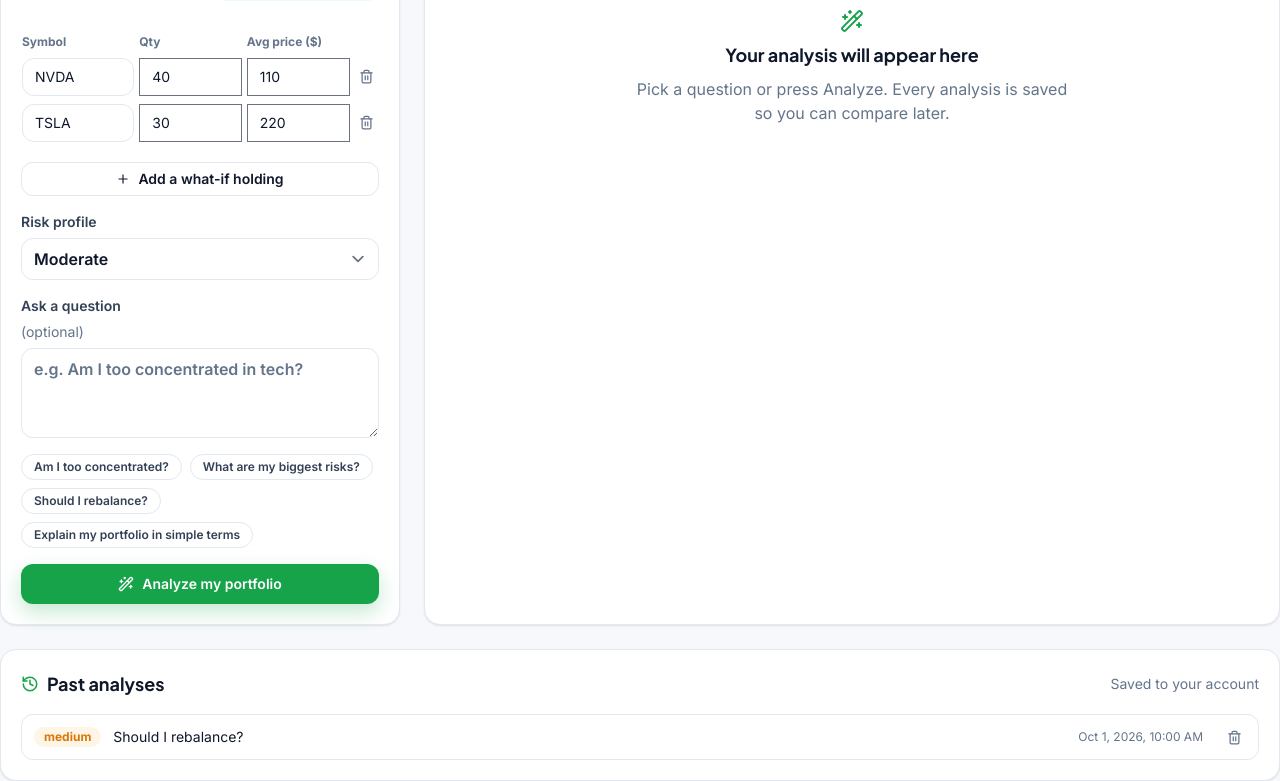
Test case: AI Advisor › deletes an analysis from the history
(page scrolled)
Click the button named "delete analysis": x=1234, y=737 1219,722 -> 1250,752
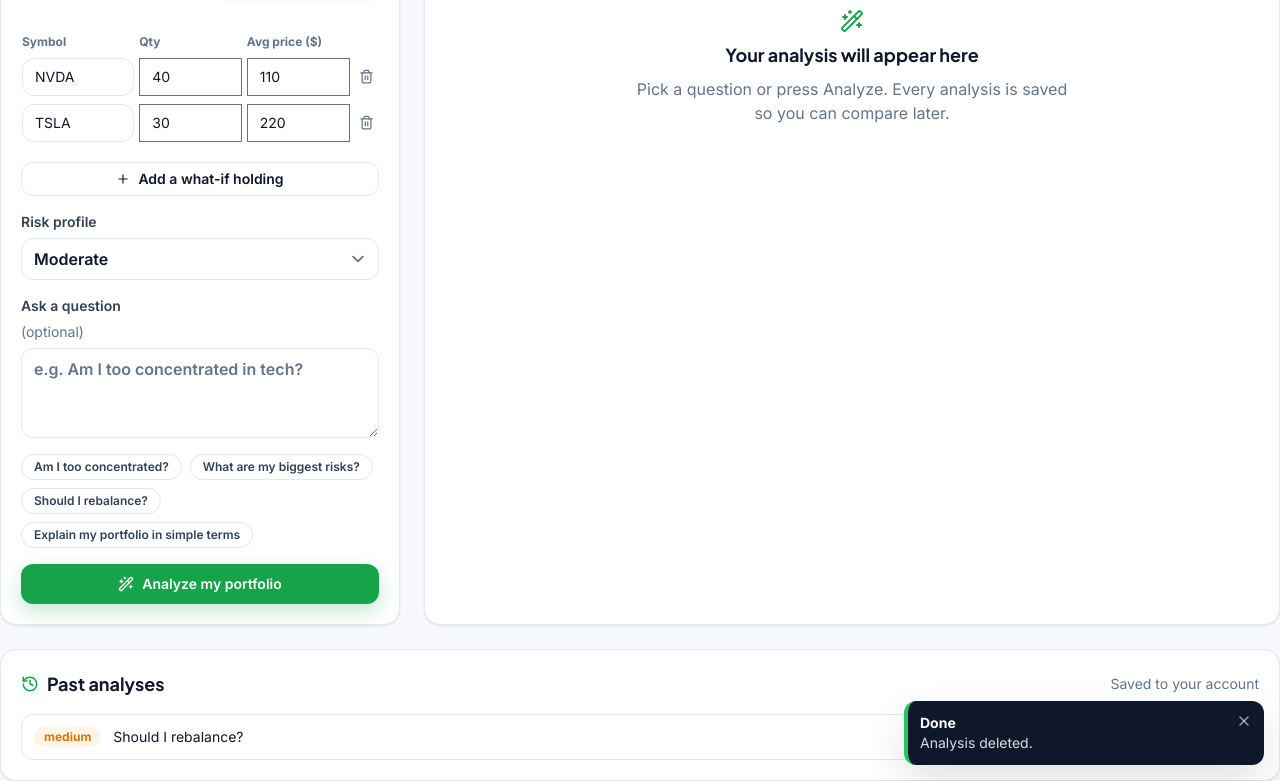
Check: the text "Analysis deleted." is shown, box 920,734 -> 1033,751
